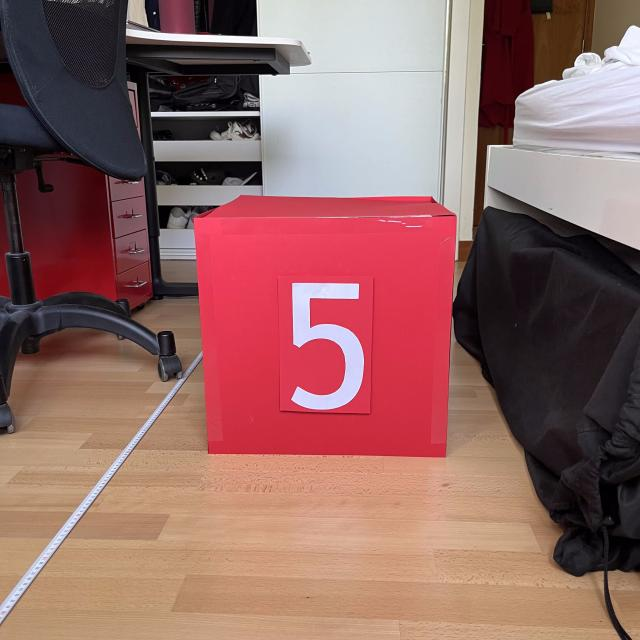box: (188, 189, 460, 461)
